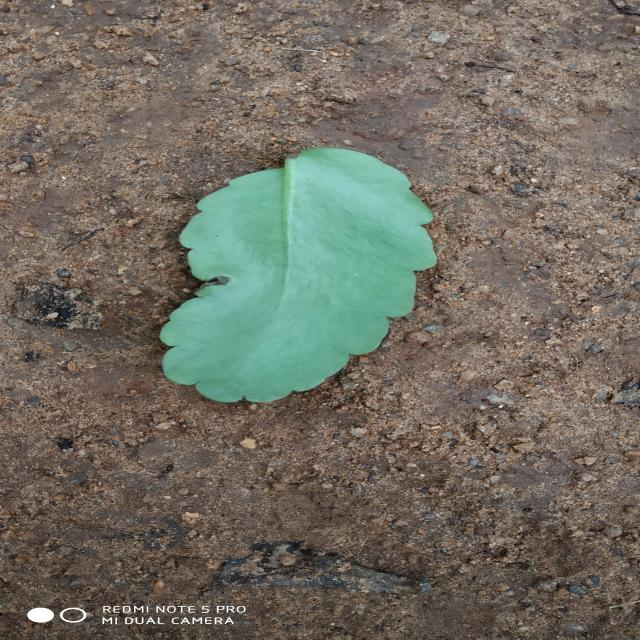spinach: (160, 148, 436, 402)
